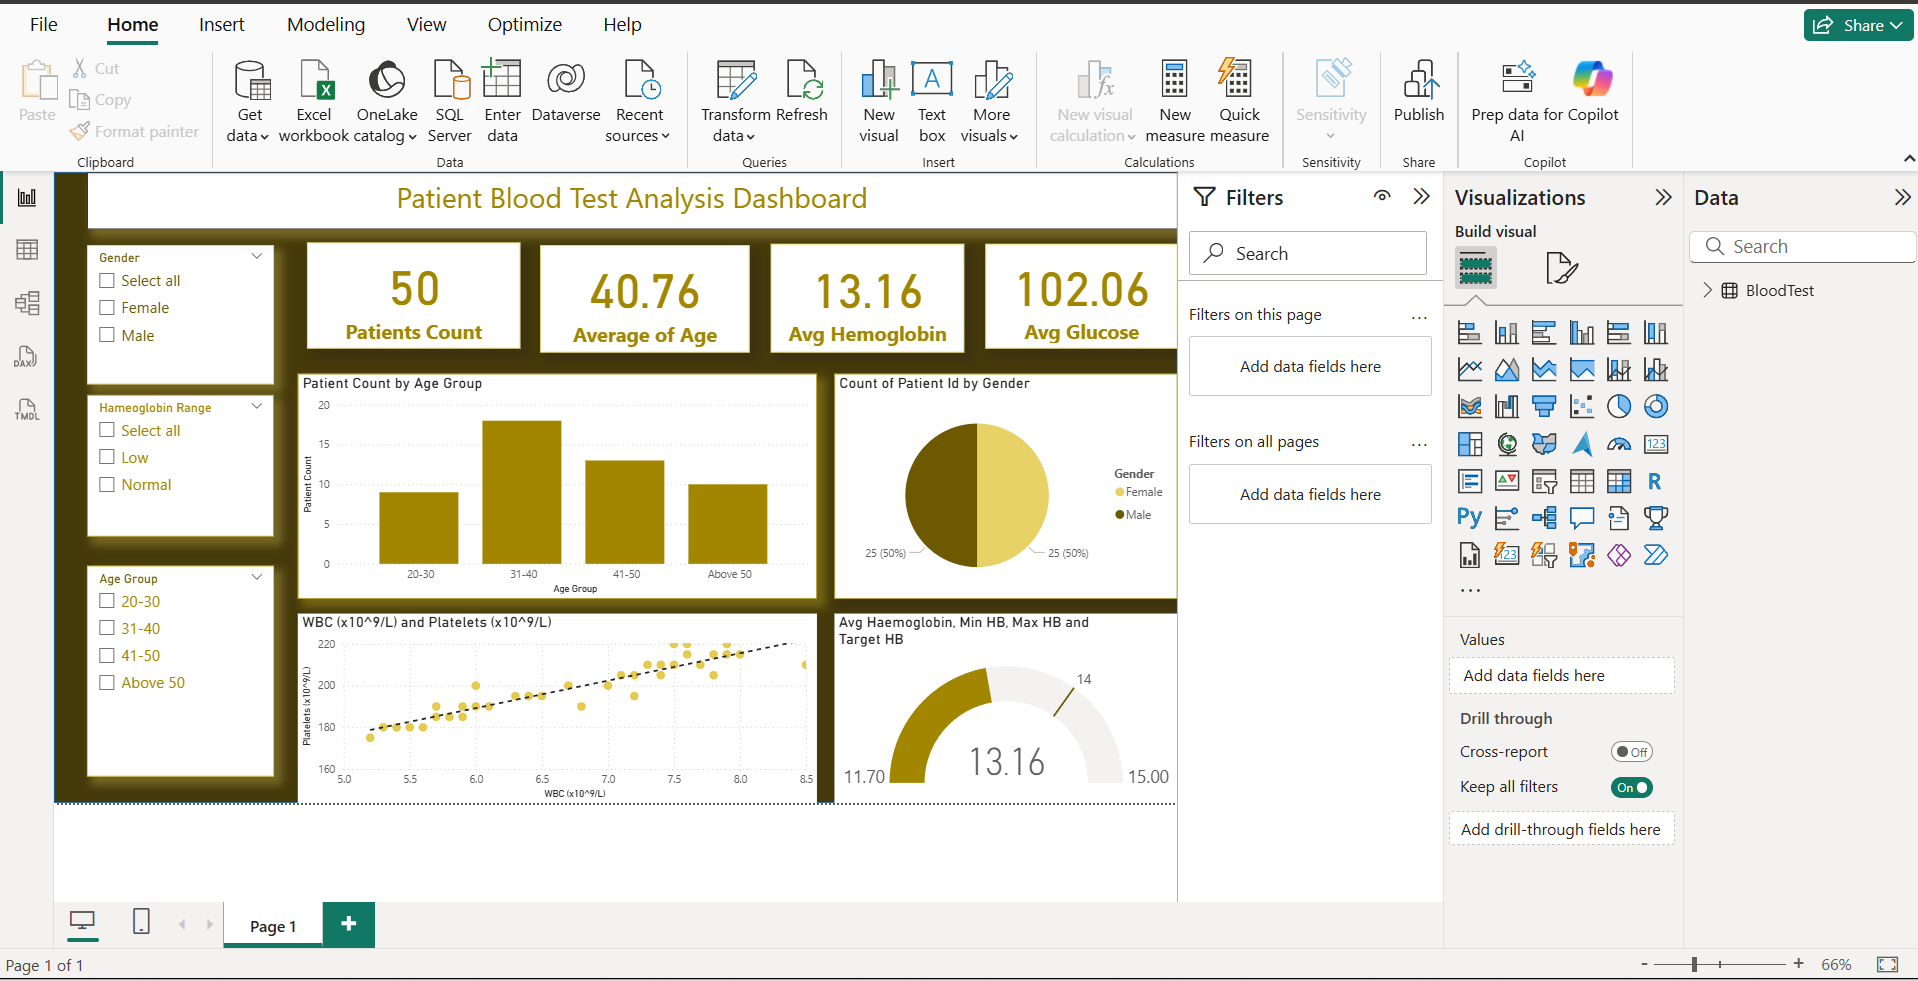

The dashboard page shown, as its layout file describes it:
{"tool":"powerbi","page":{"name":"Page 1","canvas":[1280,720],"ordinal":0},"visuals":[{"type":"shape","box":[0,1.5,1280.6,718.8],"z":0},{"type":"card","fields":{"Values":["CountNonNull(BloodTest.Patient Id)"]},"box":[288.4,81.6,243.1,120.8],"z":1000},{"type":"card","fields":{"Values":["Avg(BloodTest.Age)"]},"box":[554.2,84.6,238.6,122.3],"z":2000},{"type":"card","fields":{"Values":["Avg(BloodTest.Hemoglobin (g/dL))"]},"box":[817,83.1,220.5,123.8],"z":3000},{"type":"card","fields":{"Values":["Avg(BloodTest.Glucose (mg/dL))"]},"box":[1061.7,83.1,219,119.3],"z":4000},{"type":"textbox","box":[37.8,1.5,1242.9,64.9],"z":5000},{"type":"clusteredColumnChart","fields":{"Category":["BloodTest.Age Group"],"Y":["CountNonNull(BloodTest.Patient Id)"]},"box":[277.9,231.1,592,256.7],"z":6000},{"type":"pieChart","fields":{"Y":["CountNonNull(BloodTest.Patient Id)"],"Category":["BloodTest.Gender"]},"box":[889.5,231.1,391.1,256.7],"z":7000},{"type":"gauge","fields":{"Y":["BloodTest.Avg Haemoglobin"],"TargetValue":["BloodTest.Target HB"],"MinValue":["BloodTest.Min HB"],"MaxValue":["BloodTest.Max HB"]},"box":[889.5,504.4,391.1,216],"z":8000},{"type":"scatterChart","fields":{"X":["BloodTest.WBC (x10^9/L)"],"Y":["BloodTest.Platelets (x10^9/L)"]},"box":[277.9,504.4,592,216],"z":9000},{"type":"slicer","fields":{"Values":["BloodTest.Gender"]},"box":[37.8,84.6,212.9,158.6],"z":10000},{"type":"slicer","fields":{"Values":["BloodTest.Hameoglobin Range"]},"box":[37.8,255.2,212.9,161.6],"z":11000},{"type":"slicer","fields":{"Values":["BloodTest.Age Group"]},"box":[37.8,450,212.9,240.1],"z":12000}]}

Visuals, with their boxes on the page's 1280x720 design canvas (x1, y1, x2, y2). These are canvas units, not pixel positions in the 1918x981 screenshot, which may show the page scaled, cropped or inside an application window:
shape: crop(0, 2, 1281, 720)
card - CountNonNull(BloodTest.Patient Id): crop(288, 82, 532, 202)
card - Avg(BloodTest.Age): crop(554, 85, 793, 207)
card - Avg(BloodTest.Hemoglobin (g/dL)): crop(817, 83, 1038, 207)
card - Avg(BloodTest.Glucose (mg/dL)): crop(1062, 83, 1281, 202)
textbox: crop(38, 2, 1281, 66)
clusteredColumnChart - BloodTest.Age Group x CountNonNull(BloodTest.Patient Id): crop(278, 231, 870, 488)
pieChart - CountNonNull(BloodTest.Patient Id) x BloodTest.Gender: crop(890, 231, 1281, 488)
gauge - BloodTest.Avg Haemoglobin x BloodTest.Target HB: crop(890, 504, 1281, 720)
scatterChart - BloodTest.WBC (x10^9/L) x BloodTest.Platelets (x10^9/L): crop(278, 504, 870, 720)
slicer - BloodTest.Gender: crop(38, 85, 251, 243)
slicer - BloodTest.Hameoglobin Range: crop(38, 255, 251, 417)
slicer - BloodTest.Age Group: crop(38, 450, 251, 690)
